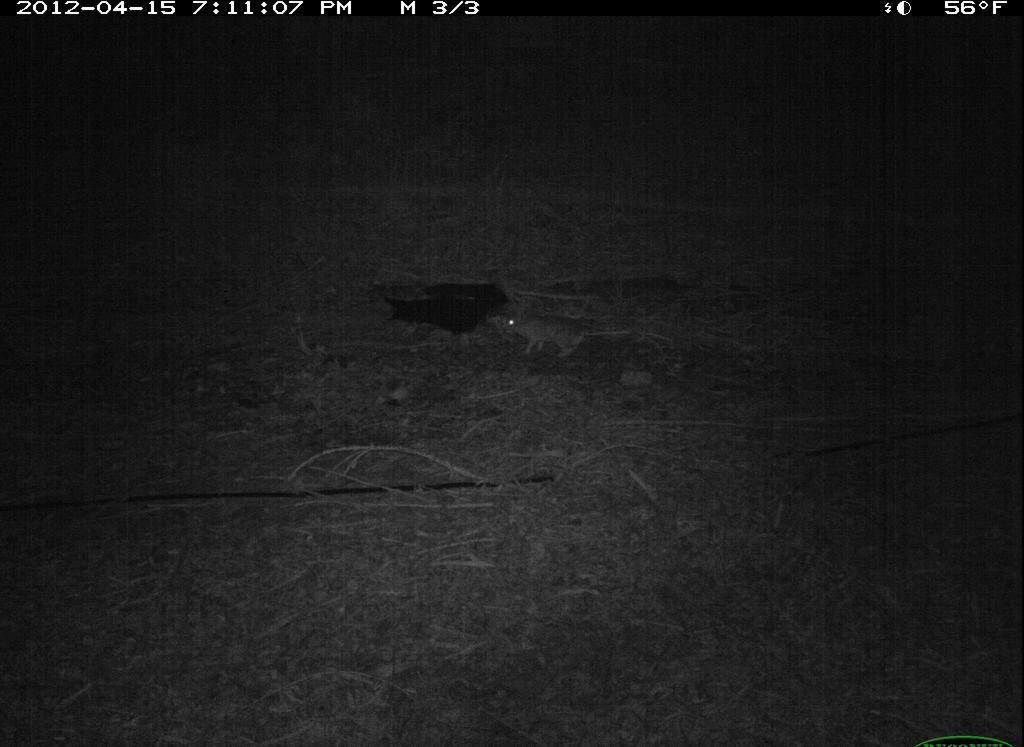rabbit: (497, 301, 600, 369)
